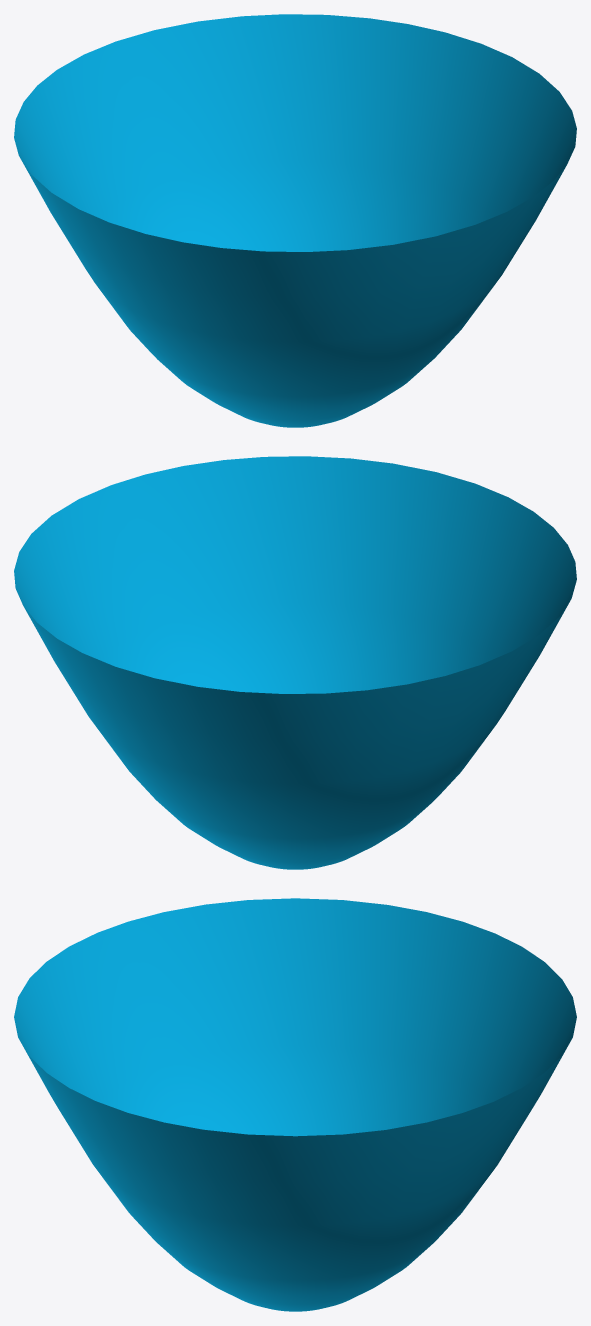
File: superficie.fbx
The picture shows the model from 3 angles, top to bottom: view 1: azimuth 30°, elevation 25°; view 2: azimuth 150°, elevation 25°; view 3: azimuth 270°, elevation 25°; orthographic projection.
Parts seen in each view (by area): view 1: polySurface86; view 2: polySurface86; view 3: polySurface86.
Part boxes in pixels (<box>): polySurface86: <box>14,14,576,427</box>; polySurface86: <box>14,456,576,869</box>; polySurface86: <box>14,898,576,1311</box>.
Size of the model in its own units: 36.28 by 20.09 by 36.28.
